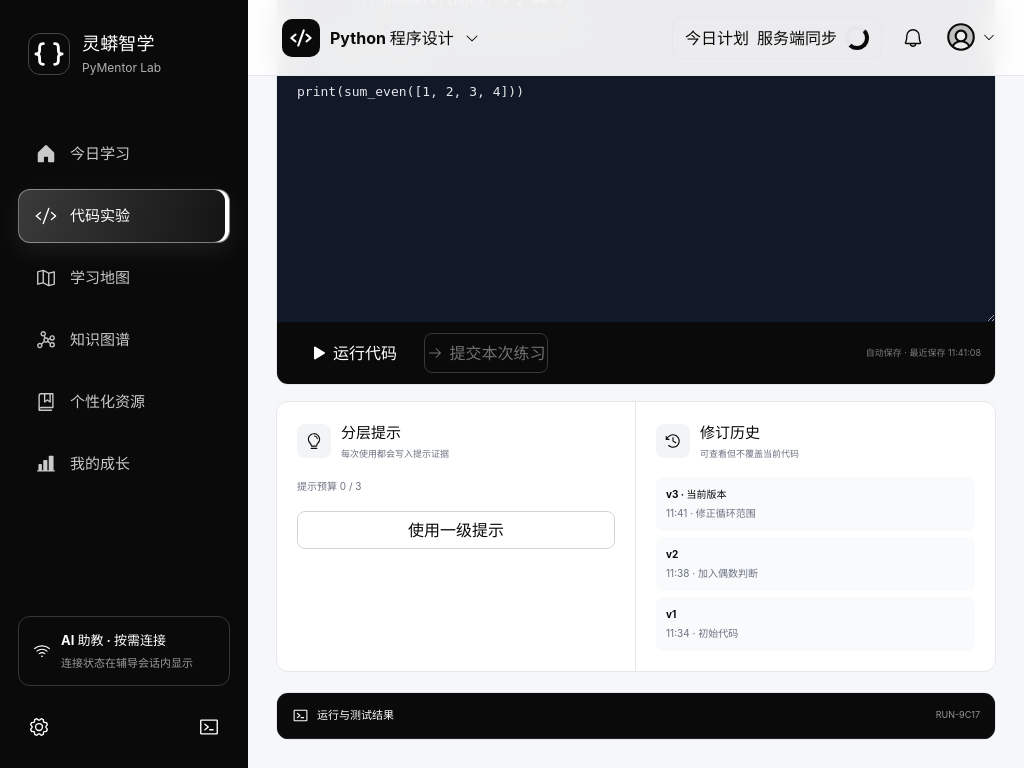
Test: controlled notebook › reveals bounded hints and keeps revision history
This screenshot has width=1024, height=768.
(page scrolled)
Expected: the text "提示预算 0 / 3" is shown, [297,480,362,492]
Click the button "使用一级提示" at (456, 530), box [297,511,615,549]
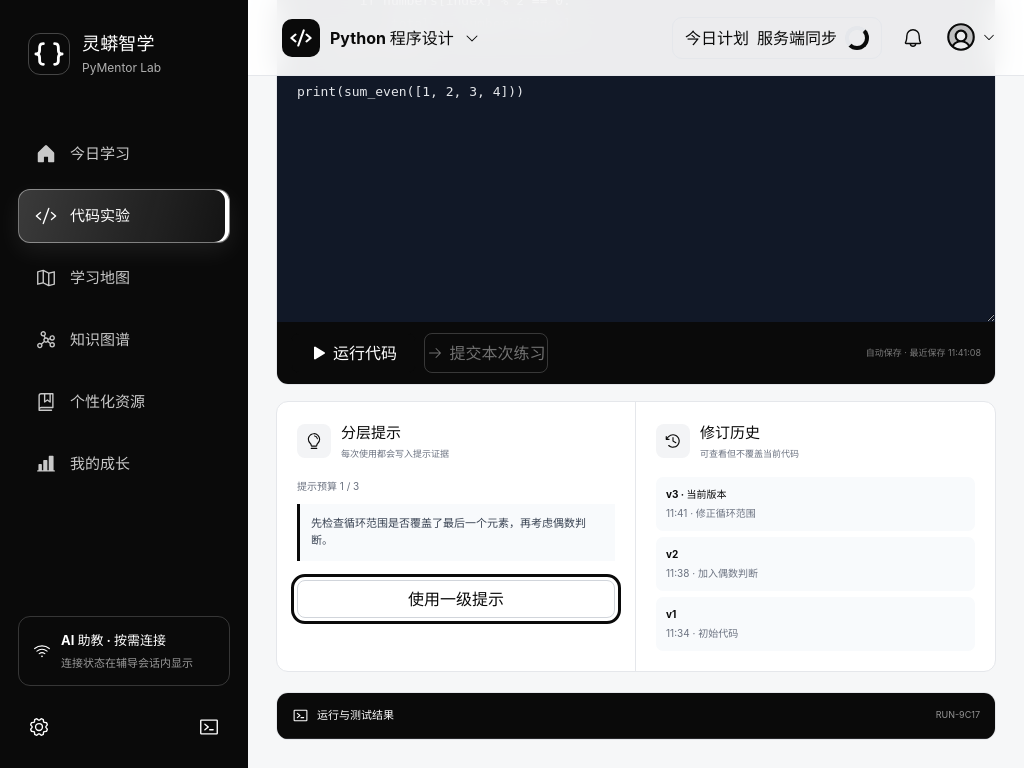
Expected: the list named "代码修订历史" shows "v3 · 当前版本", [656,477,975,531]
Expected: the message named "提示内容" shows "先检查循环范围", [311,516,586,547]
Expected: the text "提示预算 1 / 3" is shown, [297,480,359,492]
